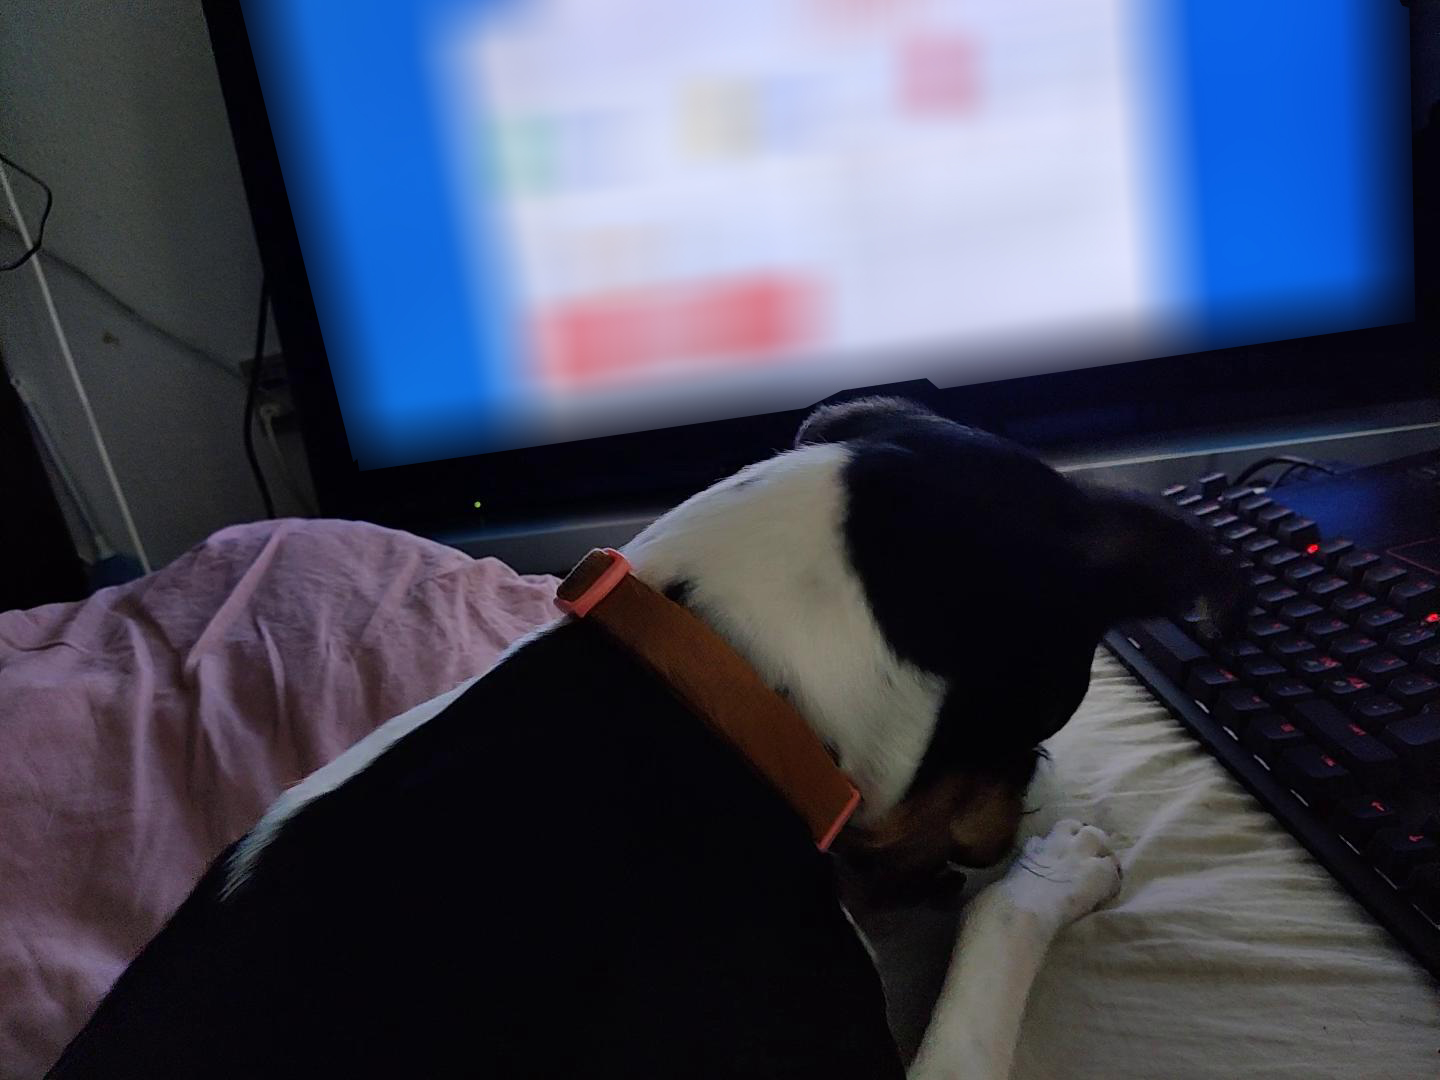Dog: (41, 393, 1267, 1079)
